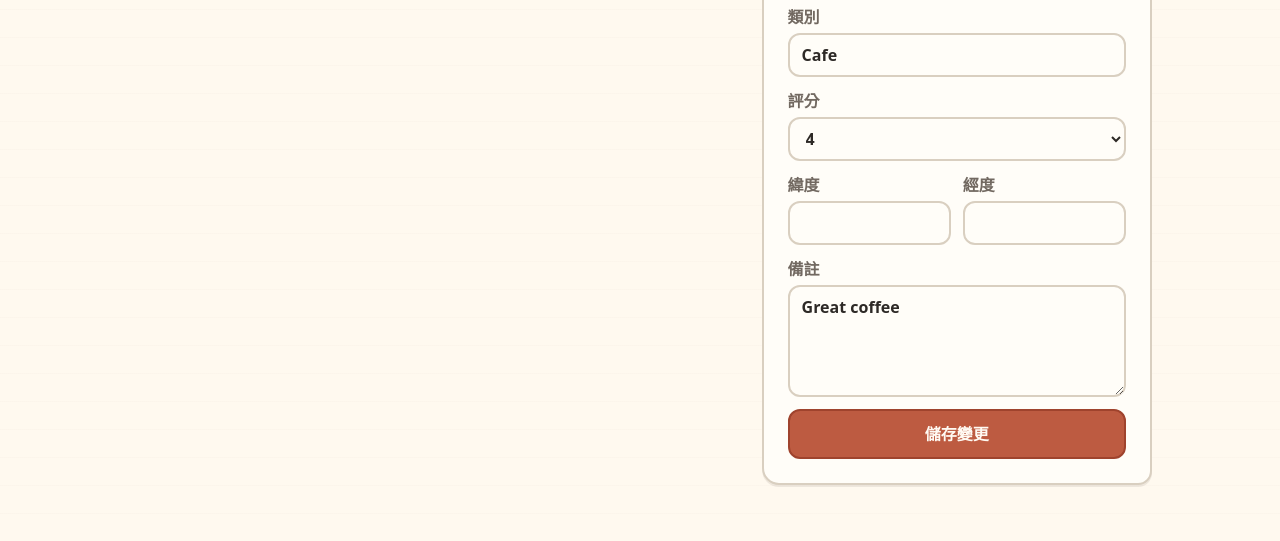
Test: EditRestaurantPage › shows a readable error when saving fails
The image size is (1280, 541).
(page scrolled)
Click the button "儲存變更": (957, 434) [788, 409, 1126, 459]
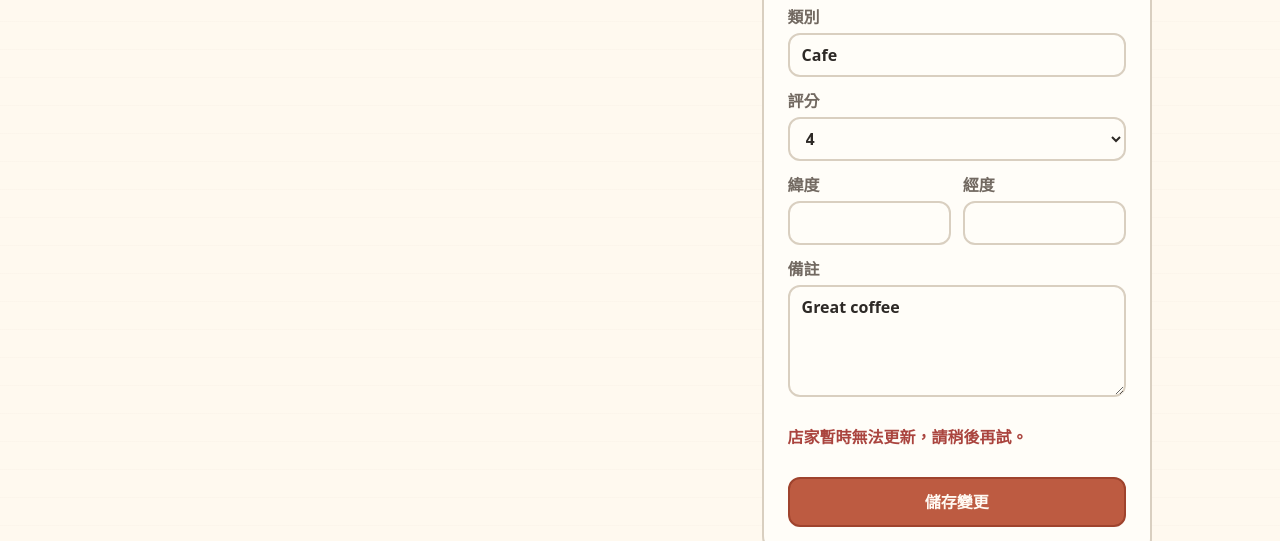
Expected: the message reads "店家暫時無法更新，請稍後再試。", [788, 426, 1028, 448]
